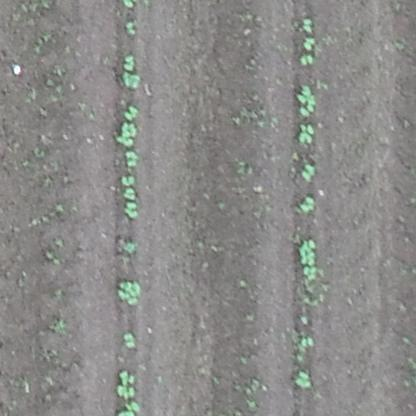vc: (296, 238, 322, 282), (295, 81, 316, 119), (116, 368, 138, 400), (116, 279, 143, 305), (113, 122, 138, 146), (293, 368, 315, 393), (119, 72, 143, 90), (297, 191, 315, 214), (298, 124, 314, 145), (123, 201, 140, 219), (122, 105, 141, 120), (123, 332, 138, 351), (301, 162, 315, 182), (298, 334, 317, 348), (121, 53, 135, 71), (120, 239, 136, 254), (301, 17, 317, 32), (301, 53, 316, 69), (122, 186, 138, 200), (125, 151, 139, 167), (121, 172, 136, 185), (124, 19, 136, 35), (303, 36, 315, 49)
